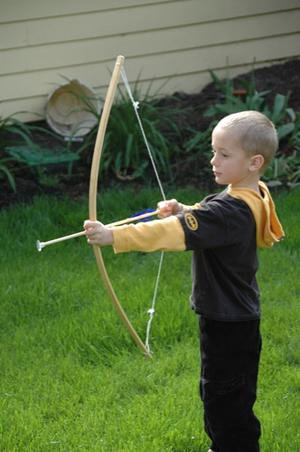person: (85, 108, 286, 452)
